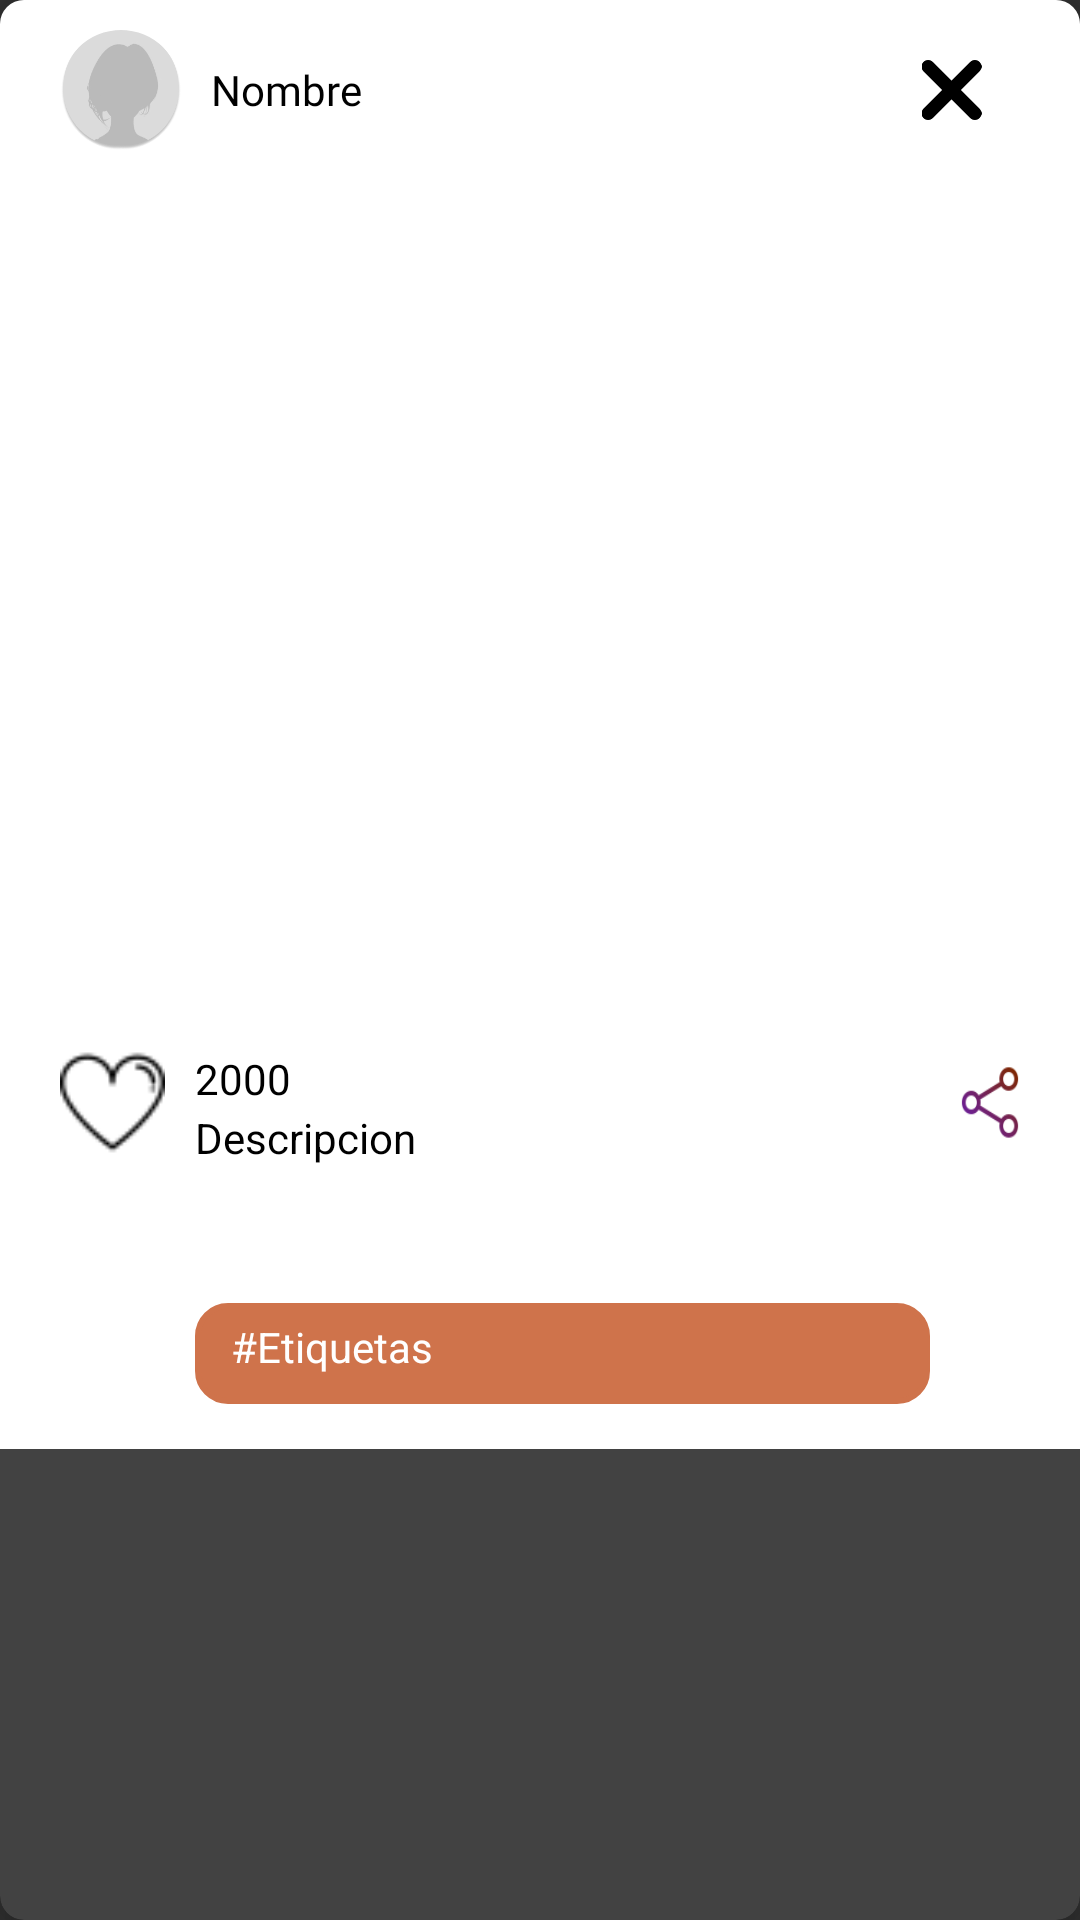

Icon bounding boxes for this 1080×1920 phone screenshot, format (x1, y1, x2, y2):
compartido: (962, 1067, 1018, 1138)
corasin: (60, 1052, 165, 1152)
fotoload: (63, 30, 179, 148)
xnegro: (922, 60, 982, 120)
